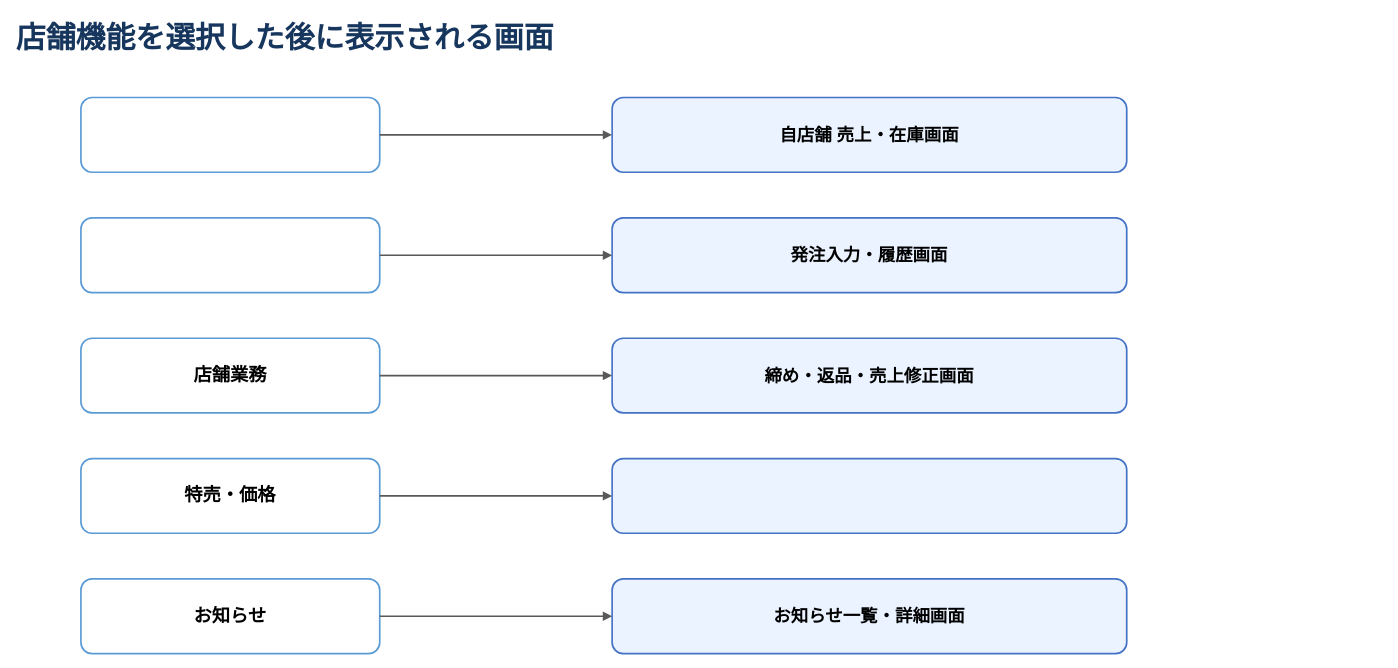
Some shapes in this 1398 by 668 pixel diagram are drawn without their labels. The shapes that lost their labels are listed below. From the top down, each one's box as (x1, y1, x2, y2) in pixels, then its label:
(80, 96, 380, 173): 売上・在庫
(80, 217, 380, 293): 発注
(611, 457, 1127, 534): 特売内容・価格確認画面
